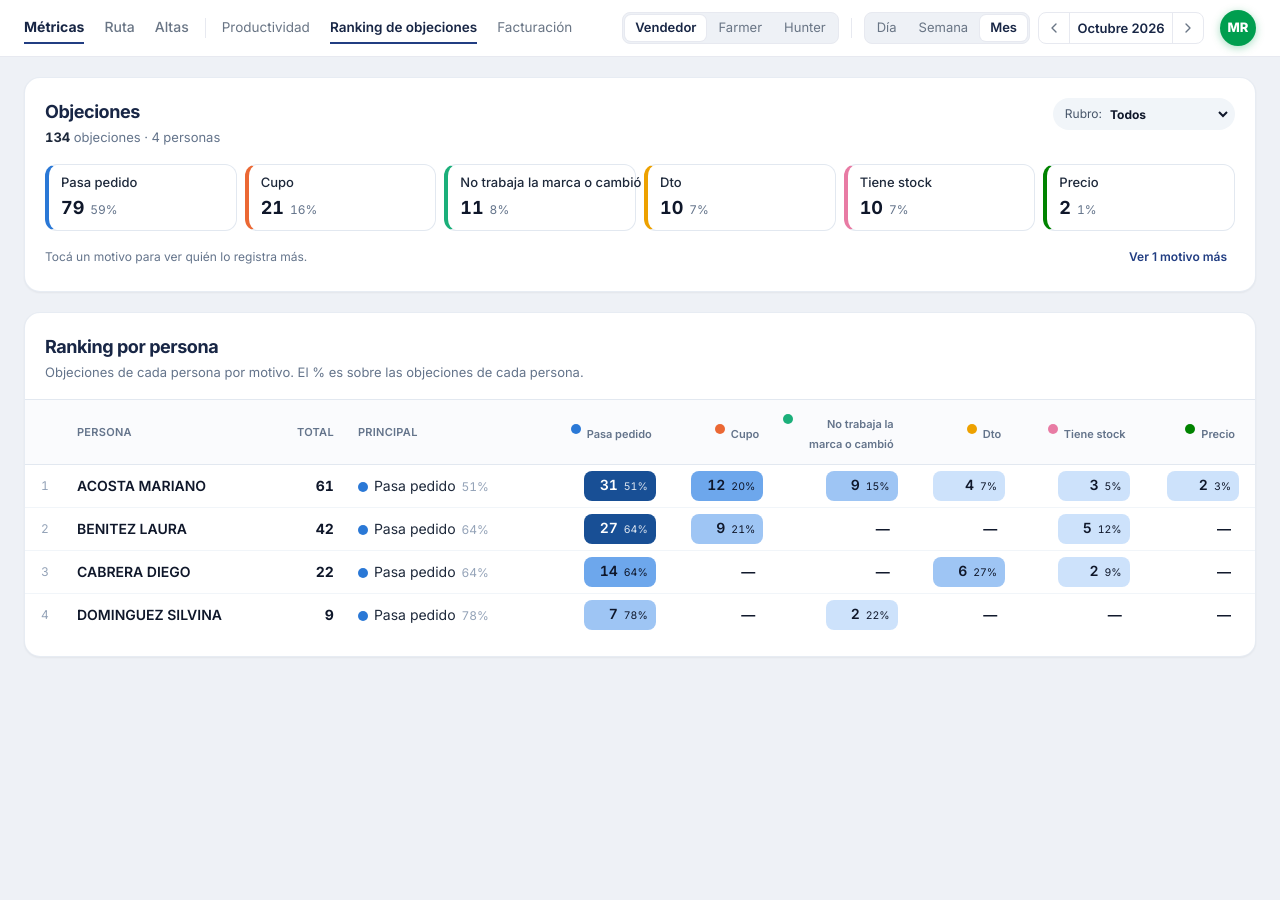
Ranking de objeciones › en el ranking, el código se ve debajo del TV pero no del vendedor
Click the button "Hunter": coordinates (805, 28) [774,15,836,41]
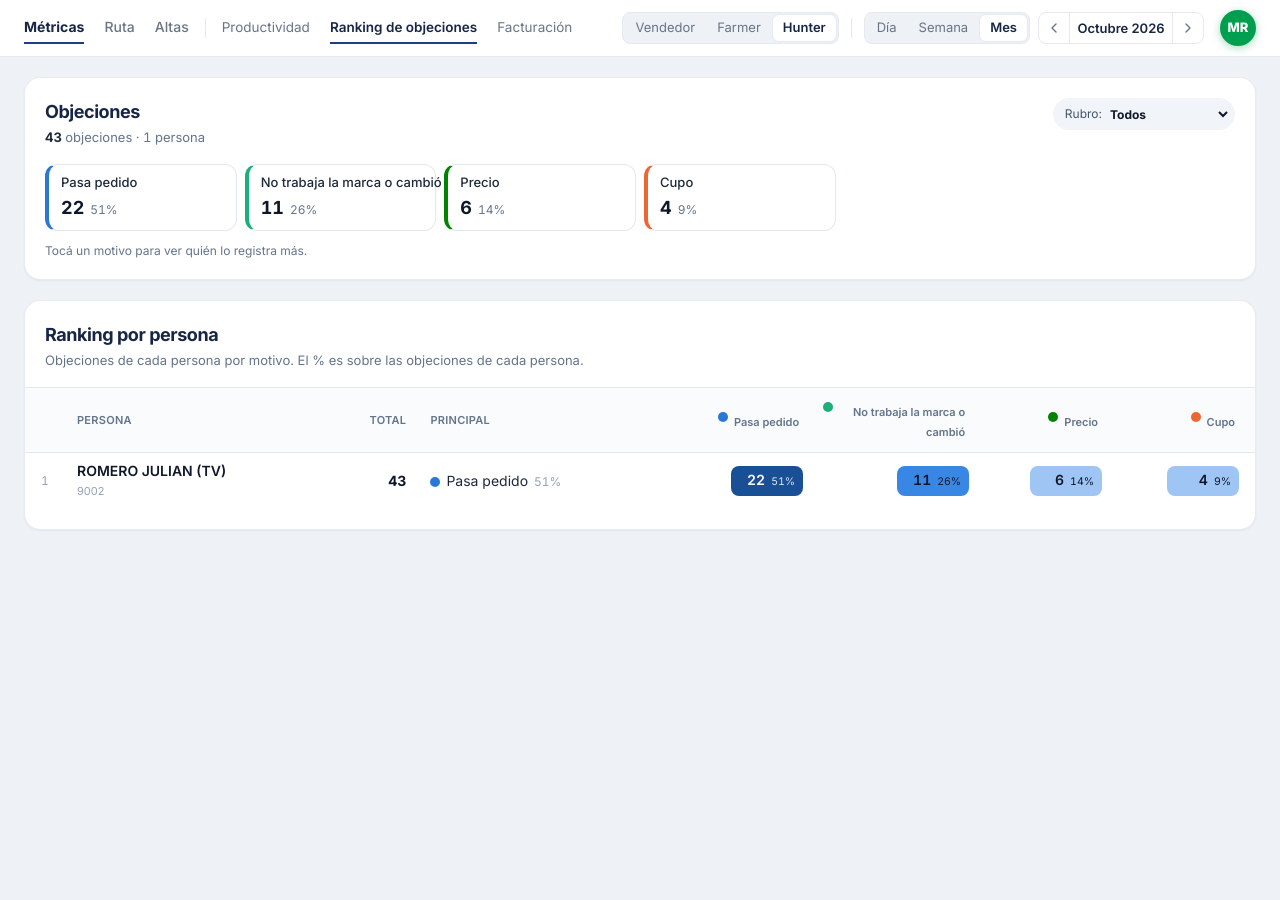
expect the text "9002" is shown: met, box [77,484,104,498]
